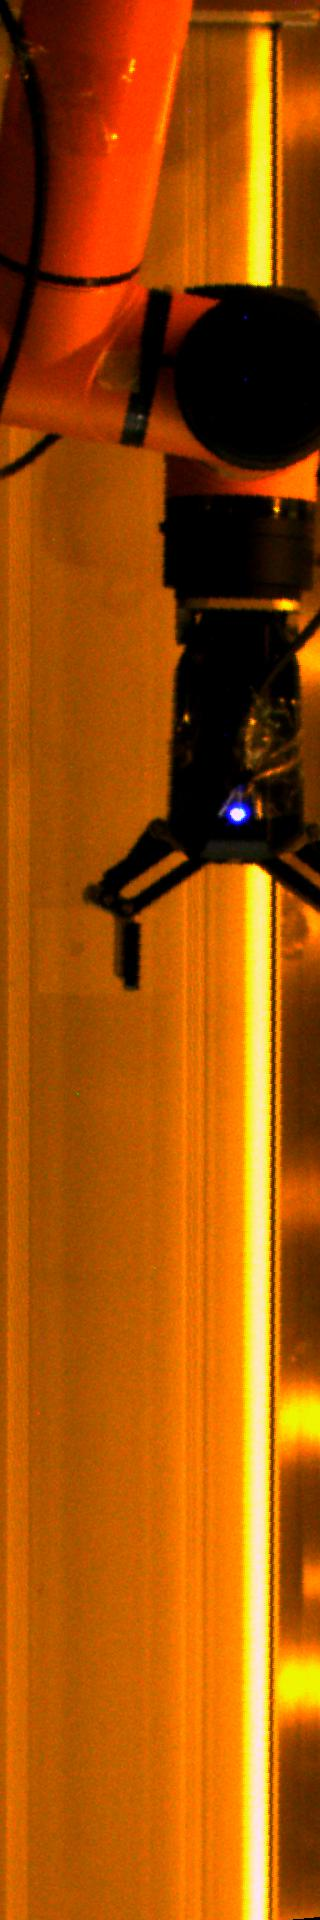keyPoint_1: (223, 798, 253, 828)
